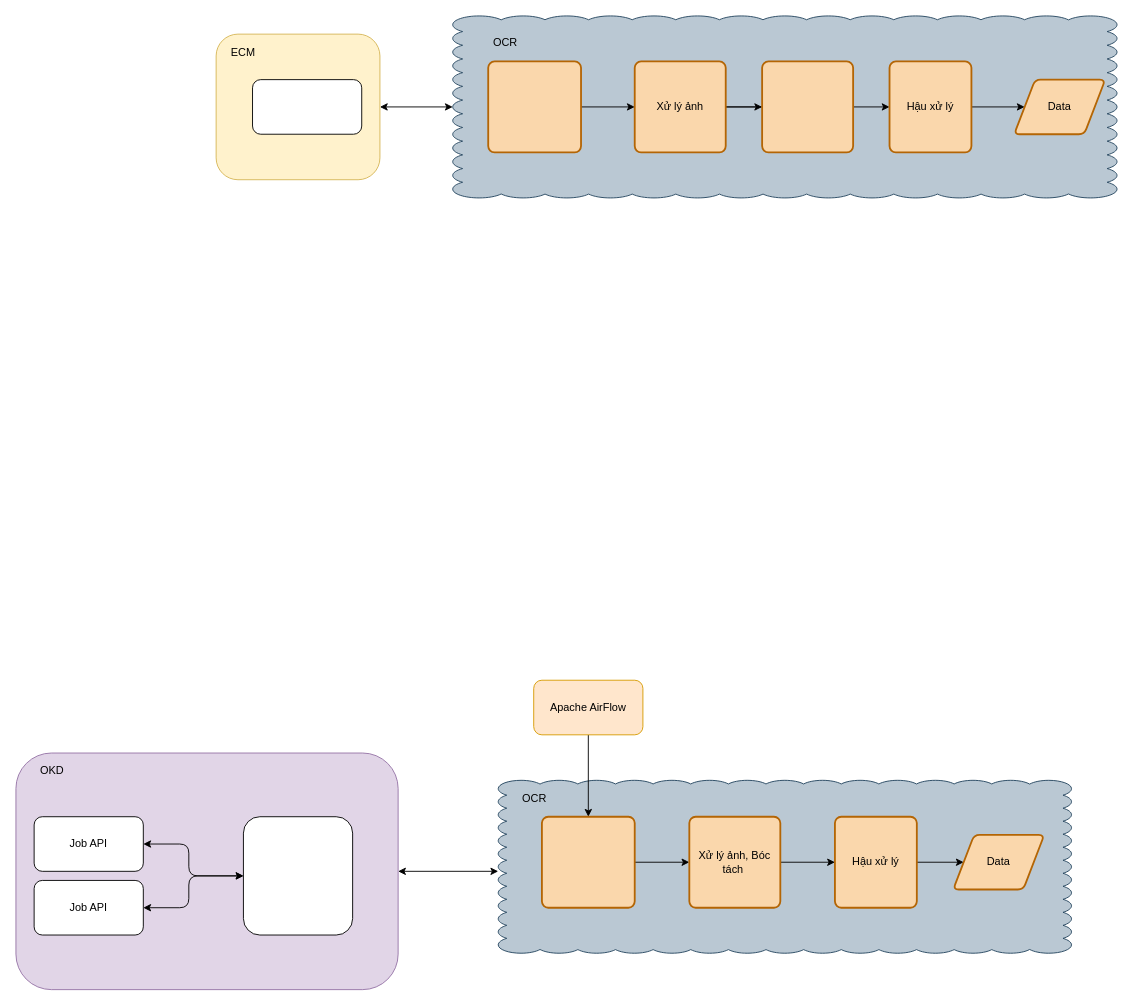
Image size: 1133x1006. Some labels were removed from this diagram. Each missing label, with the centre of its shape:
Bóc tách: (807,106)
Config tọa độ, Yolo: (534,106)
Job API (OCR, Compare dữ liệu): (307,106)
Model Yolo: (588,861)
RabitMQ: (298,875)
